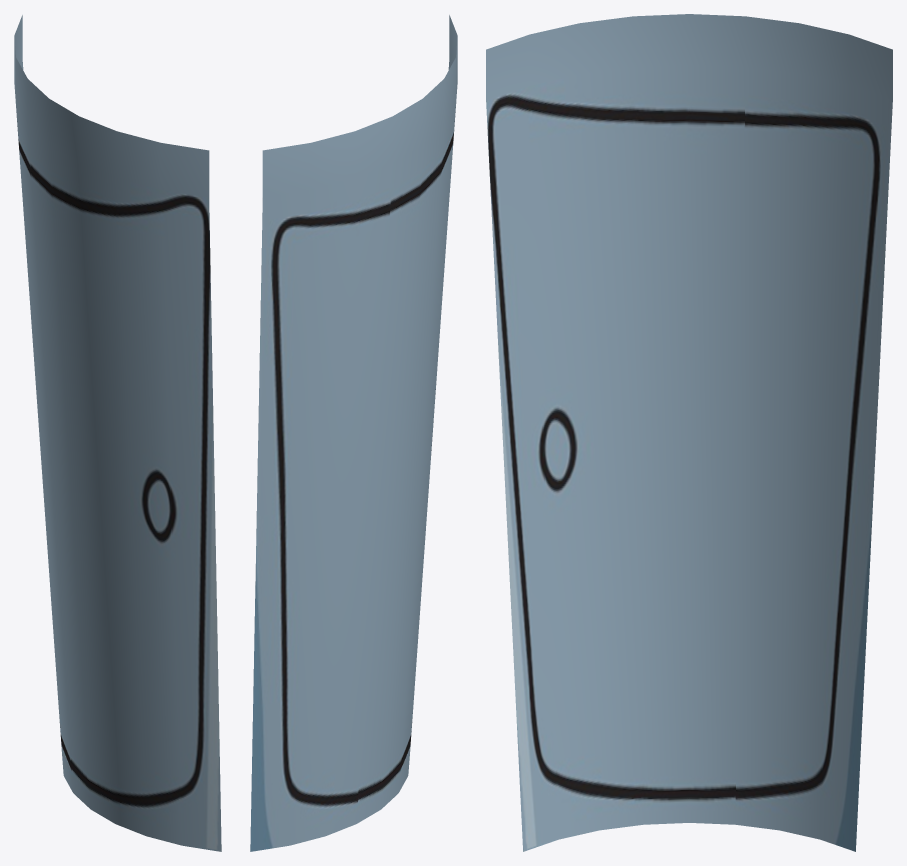
File: chest.dae
3 renders of one model, left to right at view 1: azimuth 30°, elevation 25°; view 2: azimuth 150°, elevation 25°; view 3: azimuth 270°, elevation 25°, orthographic. The views are drawn at different scales.
Parts seen in each view (by area): view 1: body_base_Cylinder_000; view 2: body_base_Cylinder_000; view 3: body_base_Cylinder_000.
Boxes of the visible parts, left/top/right/bottom form: body_base_Cylinder_000: left=14, top=15, right=221, bottom=851; body_base_Cylinder_000: left=250, top=15, right=457, bottom=851; body_base_Cylinder_000: left=486, top=14, right=892, bottom=851.
Bounding box in the file's own units: 0.61 × 2.05 × 4.37.
1 material, 1 textured.
